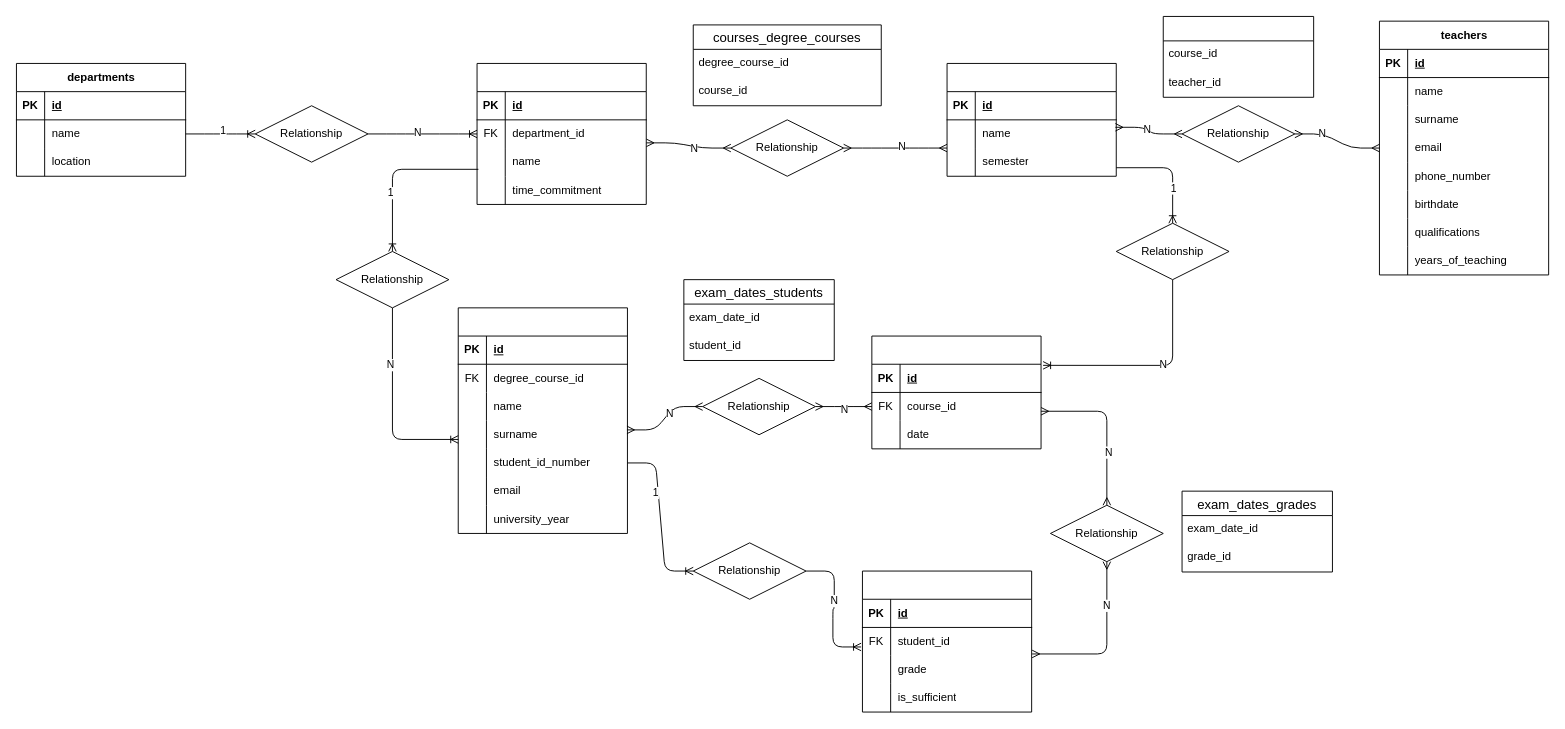
This 1565x729 diagram has some shape labels left out. The box of each missing label's shape, as (x1, y1, x2, y2) in pixels:
courses: (946, 63, 1116, 176)
courses_teachers: (1162, 16, 1314, 97)
degree_courses: (476, 63, 646, 204)
exam_dates: (871, 335, 1041, 449)
grades: (862, 570, 1032, 712)
students: (457, 307, 627, 533)
